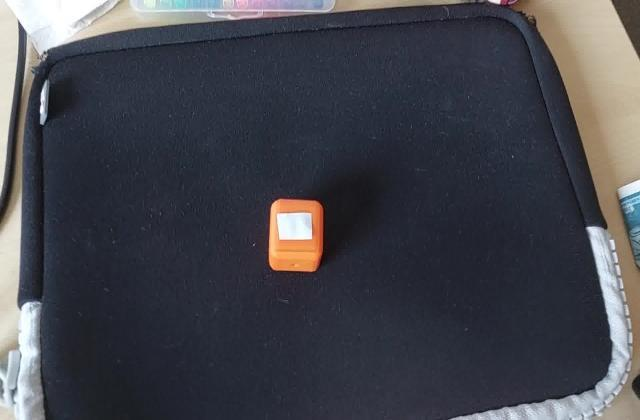sticker: (265, 198, 325, 276)
white: (274, 211, 316, 244)
